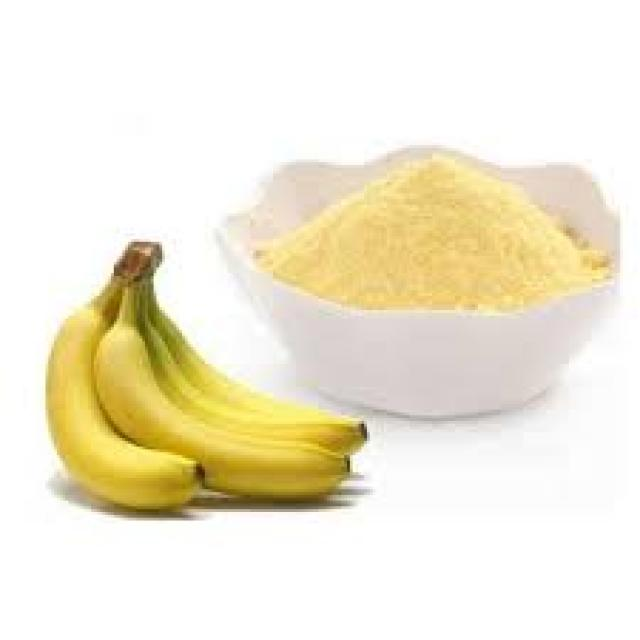banana: (43, 239, 367, 512)
